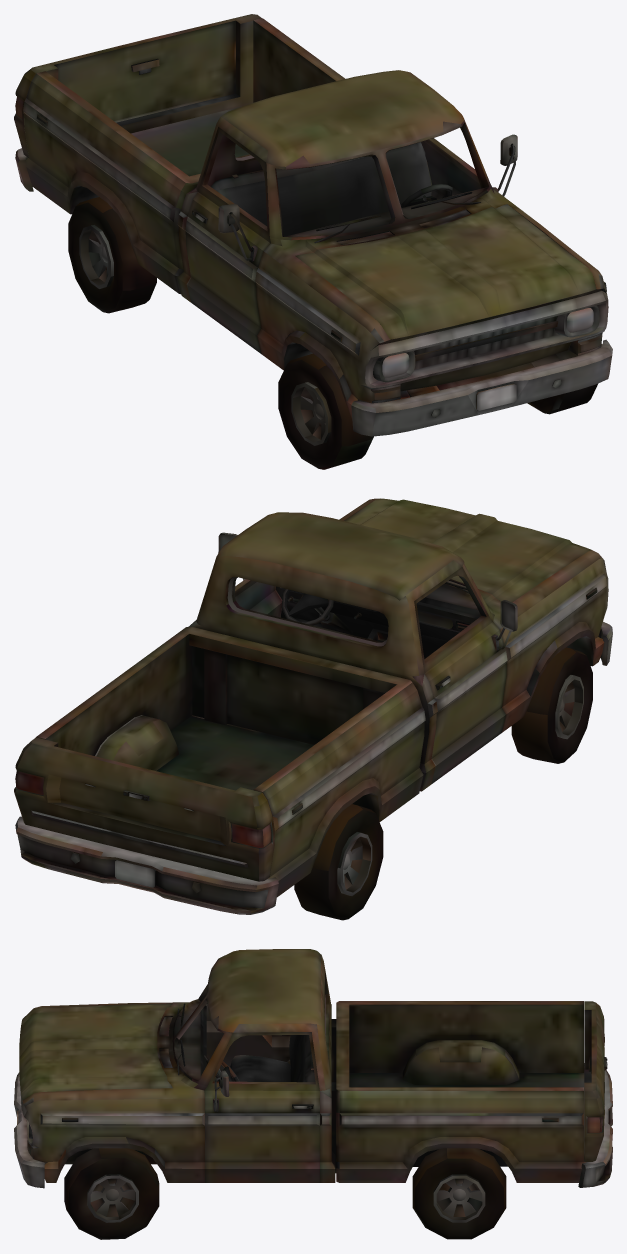
File: car3_pickup_rusty.glb
3 renders of one model, top to bottom at view 1: azimuth 30°, elevation 25°; view 2: azimuth 150°, elevation 25°; view 3: azimuth 270°, elevation 25°, orthographic. The views are drawn at different scales.
Visible parts, largest first — view 1: KUZA_15, KAPOT_3, BAQAJ DOOR_1, QAPI.001_8, ON-BUFER_5, TEKER.003_13, TEKER.004_14, QAPI_7, KUZA.001_4, TEKER.001_11; view 2: KUZA_15, BAQAJ DOOR_1, KAPOT_3, QAPI.001_8, ON-BUFER.001_6, TEKER.004_14, TEKER.003_13, SALON_10, QAPI_7, ARXA FARA_0, ROL_9; view 3: KUZA_15, QAPI_7, KAPOT_3, TEKER.002_12, TEKER.001_11, BAQAJ DOOR_1, QAPI.001_8, ON-BUFER.001_6, ON-BUFER_5.
Part boxes in pixels (<box>): KUZA_15: <box>23,18,608,419</box>; KAPOT_3: <box>295,204,596,339</box>; BAQAJ DOOR_1: <box>14,14,261,157</box>; QAPI.001_8: <box>185,127,270,353</box>; ON-BUFER_5: <box>351,339,612,436</box>; TEKER.003_13: <box>278,353,373,469</box>; TEKER.004_14: <box>68,197,156,313</box>; QAPI_7: <box>421,127,517,199</box>; KUZA.001_4: <box>382,308,593,377</box>; TEKER.001_11: <box>527,384,597,414</box>; KUZA_15: <box>36,498,608,897</box>; BAQAJ DOOR_1: <box>14,737,274,881</box>; KAPOT_3: <box>345,498,591,602</box>; QAPI.001_8: <box>414,567,517,784</box>; ON-BUFER.001_6: <box>15,816,278,914</box>; TEKER.004_14: <box>294,804,383,920</box>; TEKER.003_13: <box>511,647,592,763</box>; SALON_10: <box>276,586,479,651</box>; QAPI_7: <box>218,532,282,617</box>; ARXA FARA_0: <box>15,770,271,847</box>; ROL_9: <box>281,589,333,625</box>; KUZA_15: <box>19,949,586,1182</box>; QAPI_7: <box>204,1032,319,1182</box>; KAPOT_3: <box>19,1003,172,1100</box>; TEKER.002_12: <box>412,1148,506,1239</box>; TEKER.001_11: <box>64,1148,159,1239</box>; BAQAJ DOOR_1: <box>584,1001,607,1161</box>; QAPI.001_8: <box>205,1002,290,1081</box>; ON-BUFER.001_6: <box>578,1063,612,1187</box>; ON-BUFER_5: <box>14,1072,44,1188</box>.
Size of the model in its own units: 2.53 by 2.08 by 5.4.
Materials: 1 (1 with a texture image).
